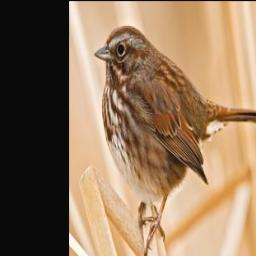Sparrow: (93, 24, 256, 256)
